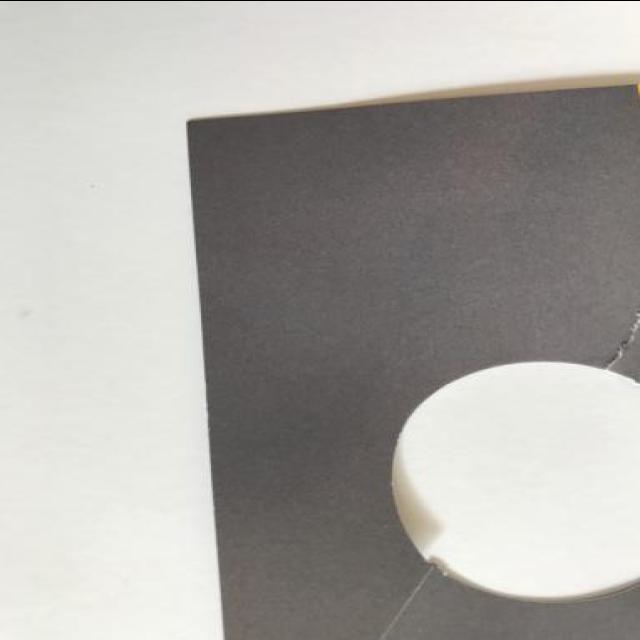kertas: (182, 80, 640, 640)
